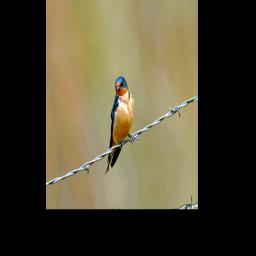Swallow: (92, 70, 143, 175)
